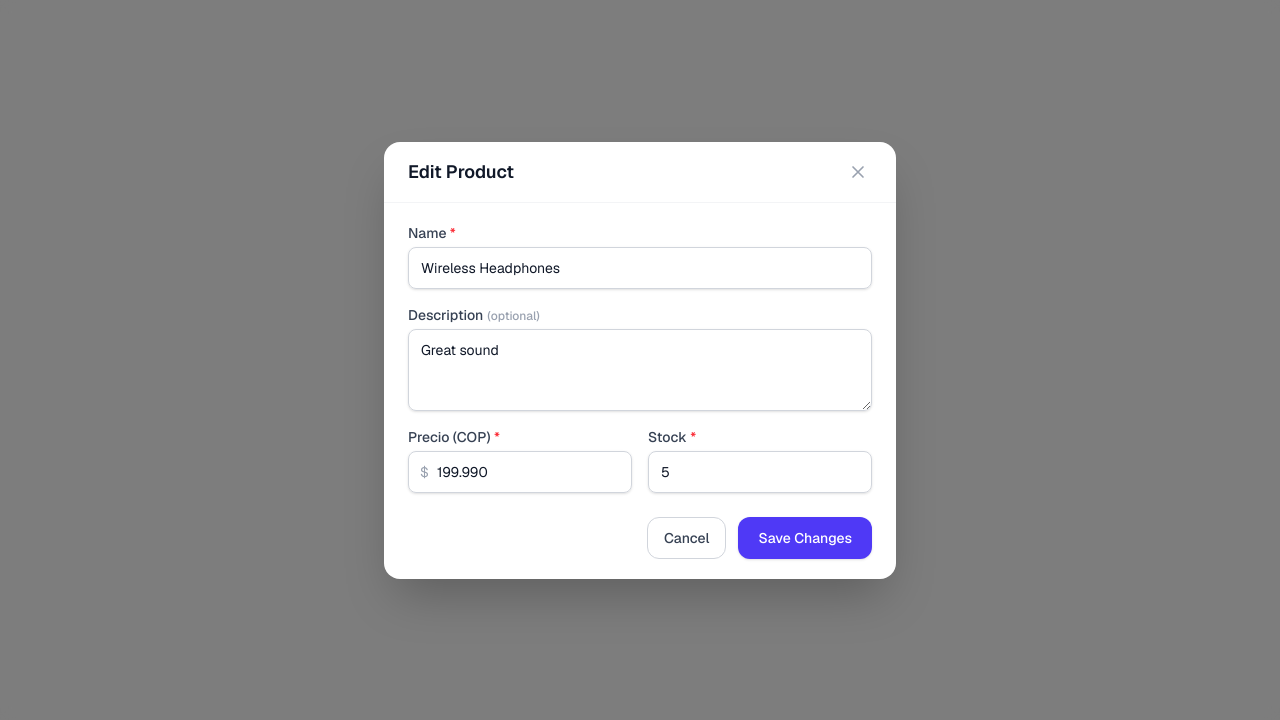
Test: EditProductModal › shows API error message on failure
The image size is (1280, 720).
Click the button "Save Changes": (805, 538) [738,516,872,558]
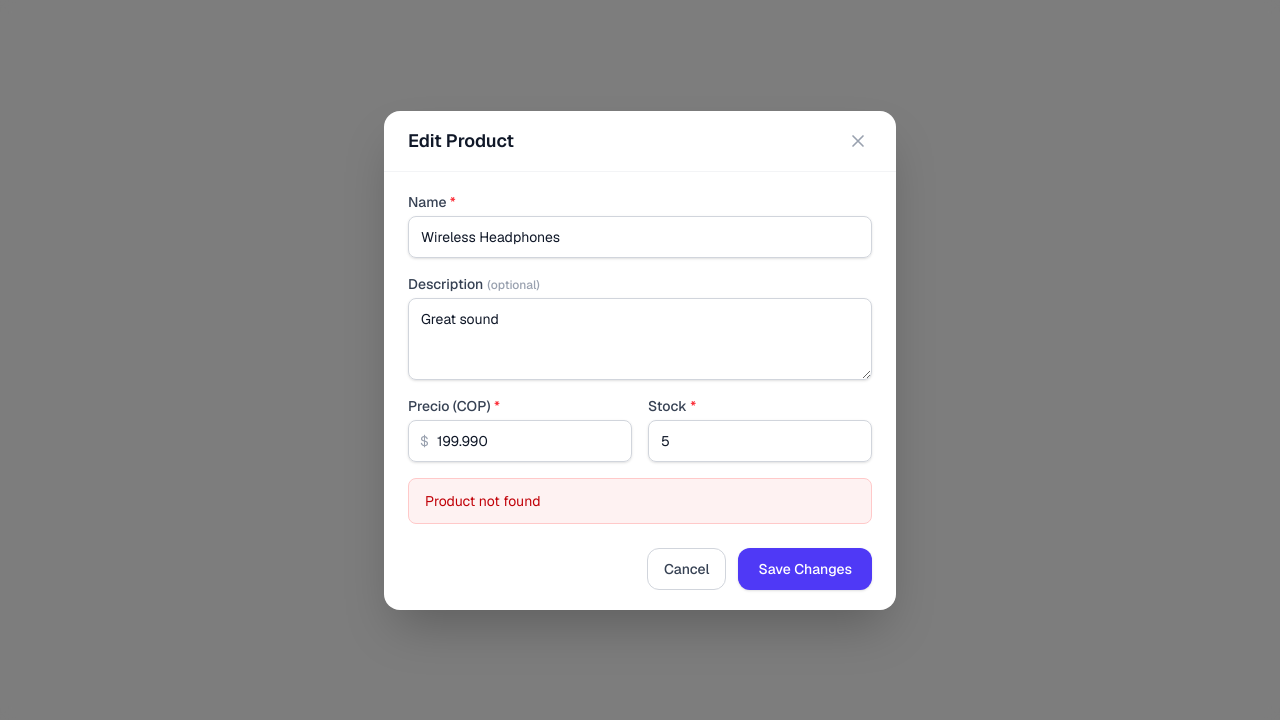
Expected: the text "Product not found" is shown, [408,478,872,524]
